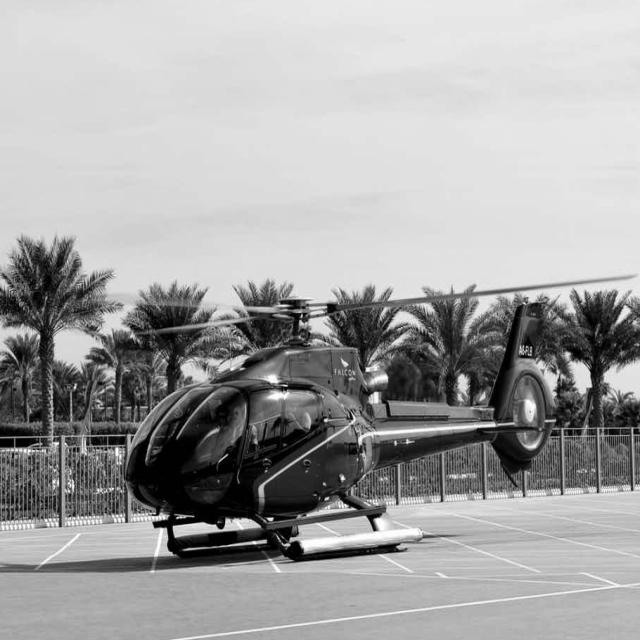helicopter: (95, 266, 640, 580)
